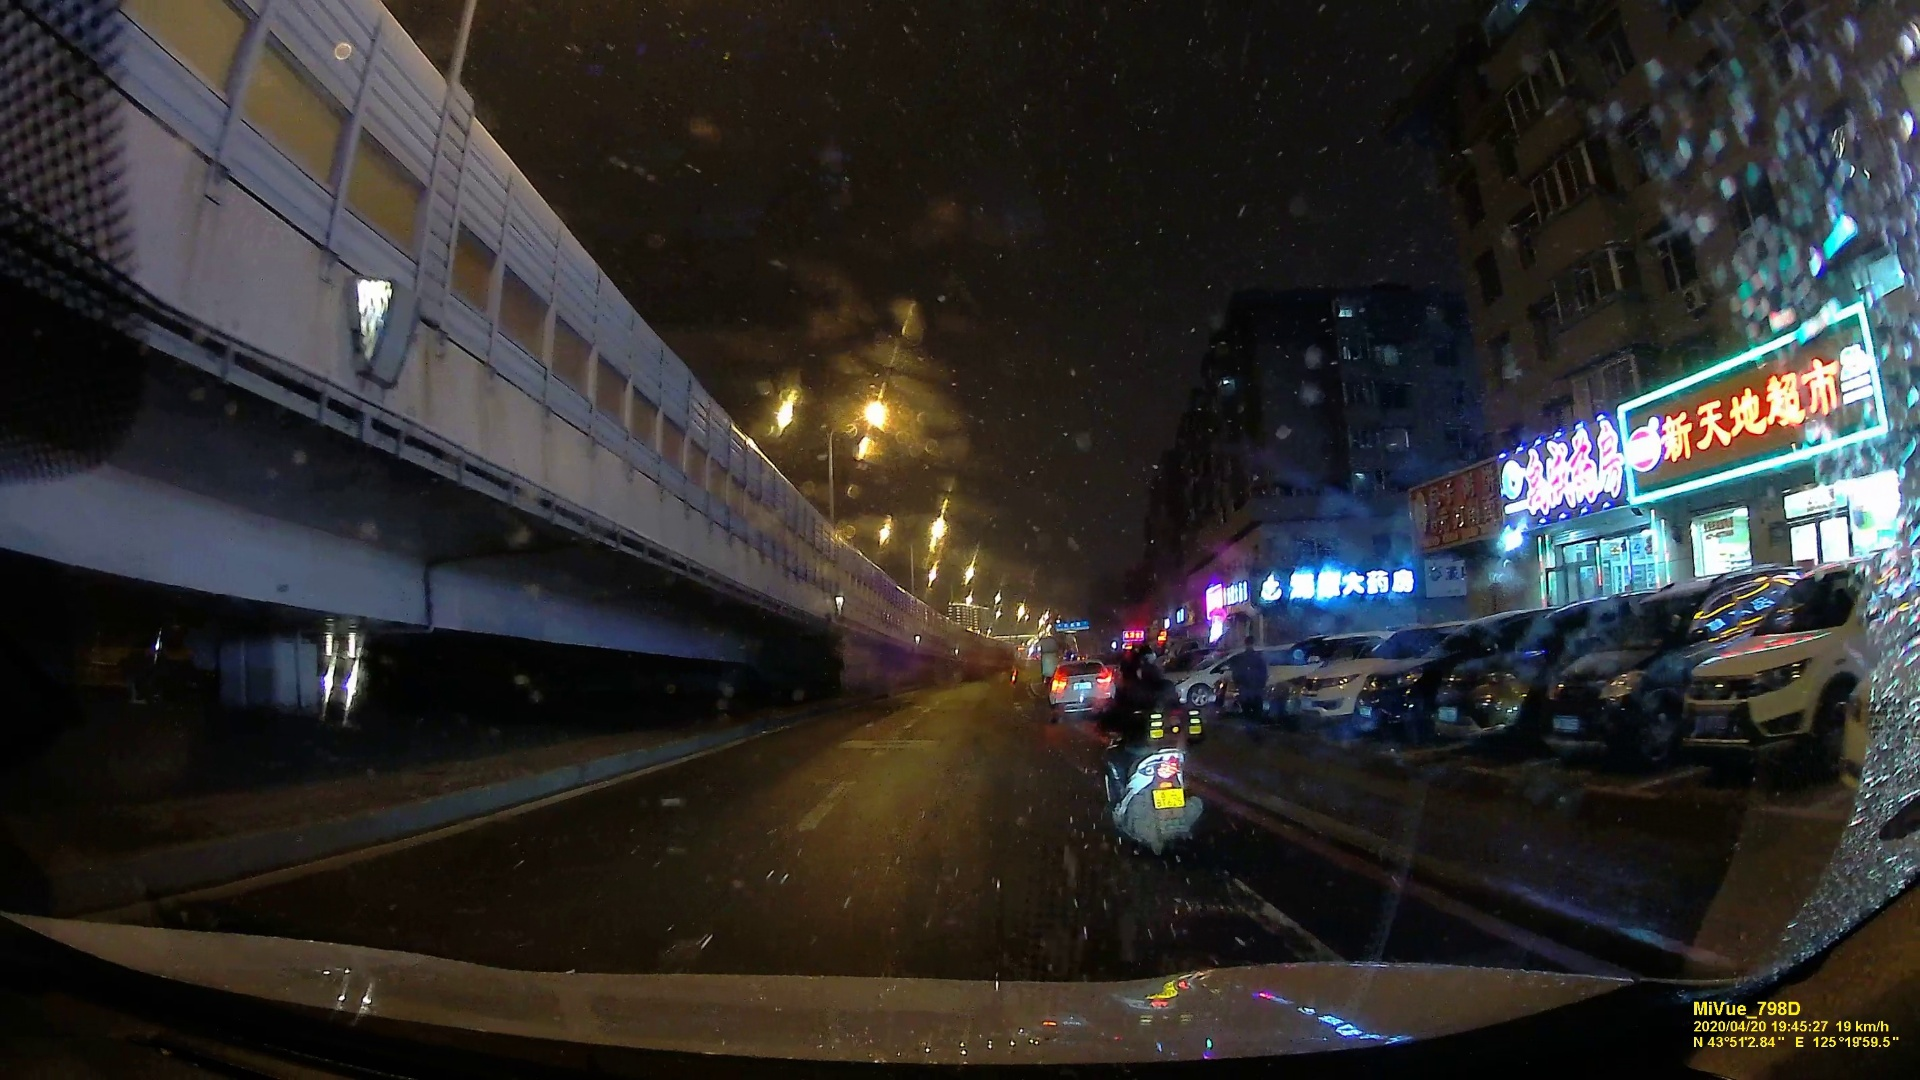person: (1106, 650, 1176, 784), (1233, 640, 1267, 744)
vehicle: (1690, 552, 1882, 772), (1049, 660, 1119, 716)
